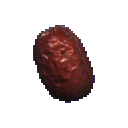ng: (27, 19, 107, 108)
